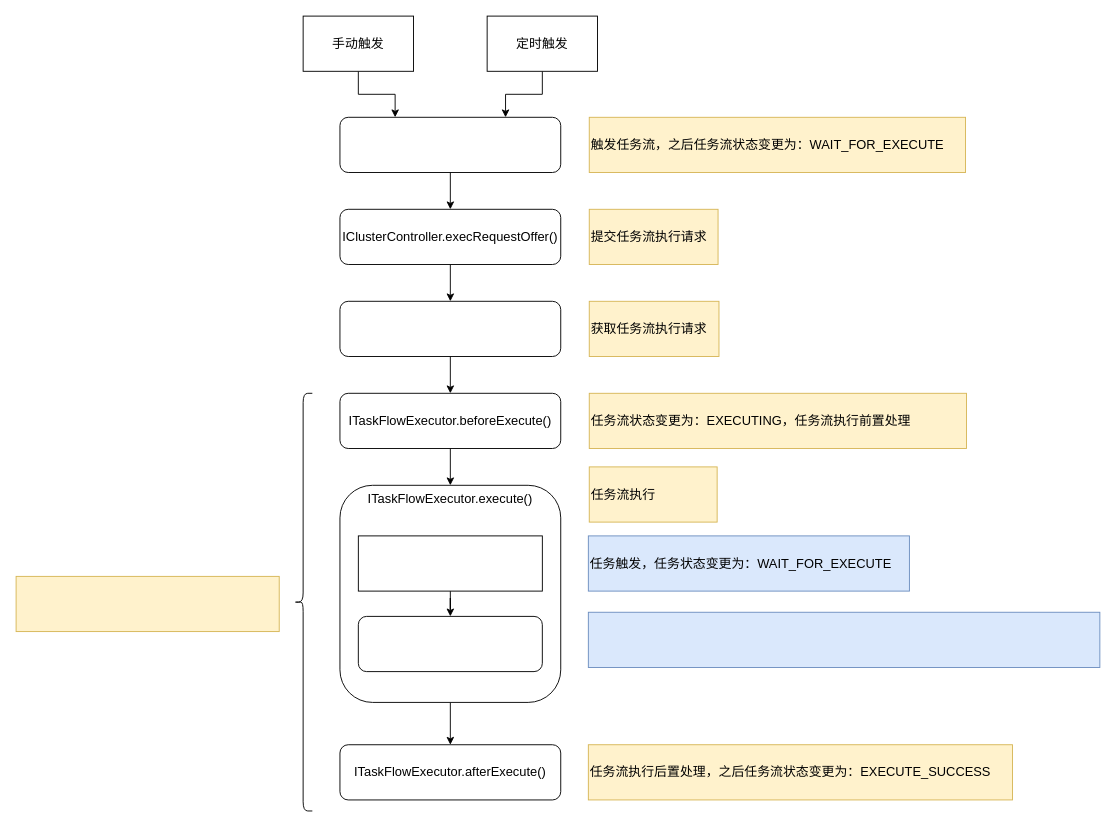
This 1116x827 diagram has some shape labels left out. Here are the shapes that lost their labels. From the top down, the centre of each, then its label:
At point 450,144: "ITaskFlowScheduler.execute()".
At point 450,328: "IClusterController.execRequestPoll()".
At point 449,563: "解析任务流，触发任务".
At point 147,603: "任一步骤执行异常， 则任务流状态变更为：EXECUTE_FAILURE".
At point 449,643: "Task.execute()".
At point 843,639: "任务状态变更为：EXECUTING，任务执行，完成后状态变更为：EXECUTE_SUCCESS".
